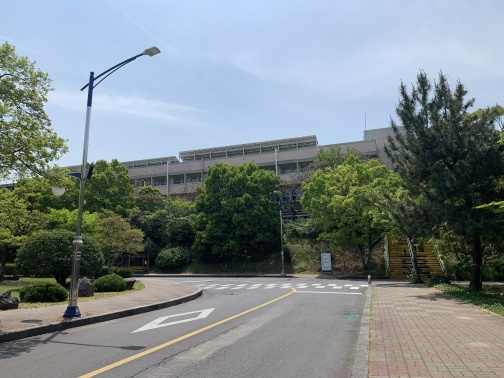College Of Education: (62, 126, 442, 230)
